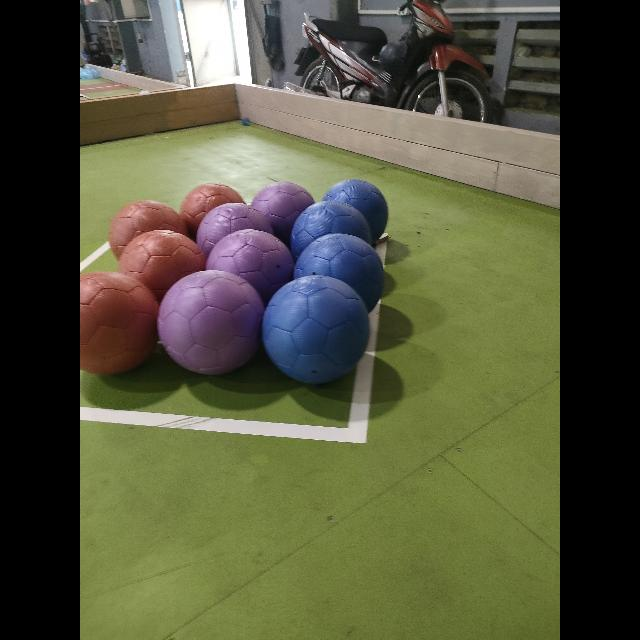B: (262, 275, 370, 383), (300, 235, 378, 303), (322, 180, 388, 242)
P: (158, 270, 264, 374), (202, 228, 292, 306), (250, 182, 314, 245)
R: (80, 272, 158, 374), (115, 229, 205, 307), (109, 200, 187, 260), (180, 184, 244, 238)
